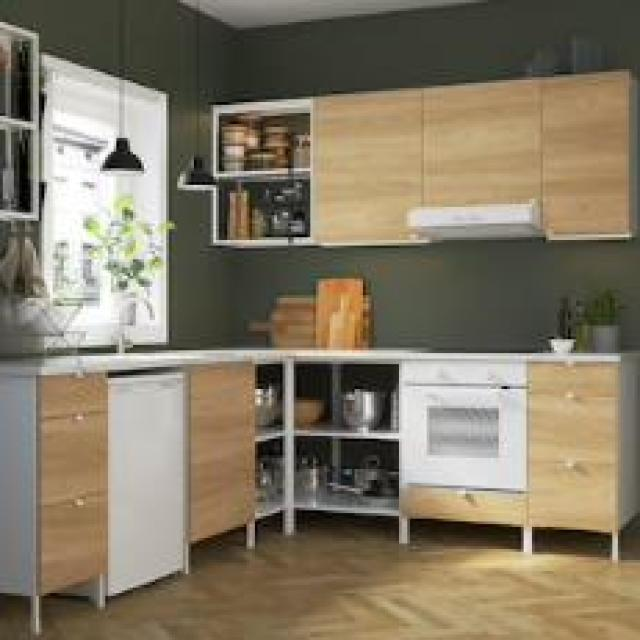dishwasher: (102, 364, 186, 596)
